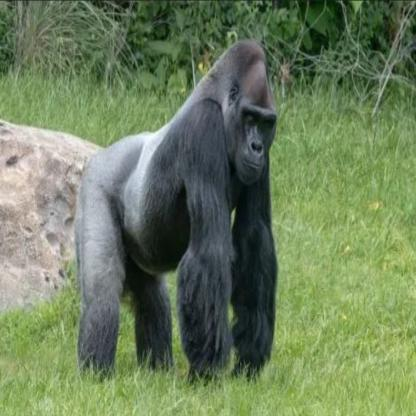Gorilla gorilla: (74, 41, 278, 388)
